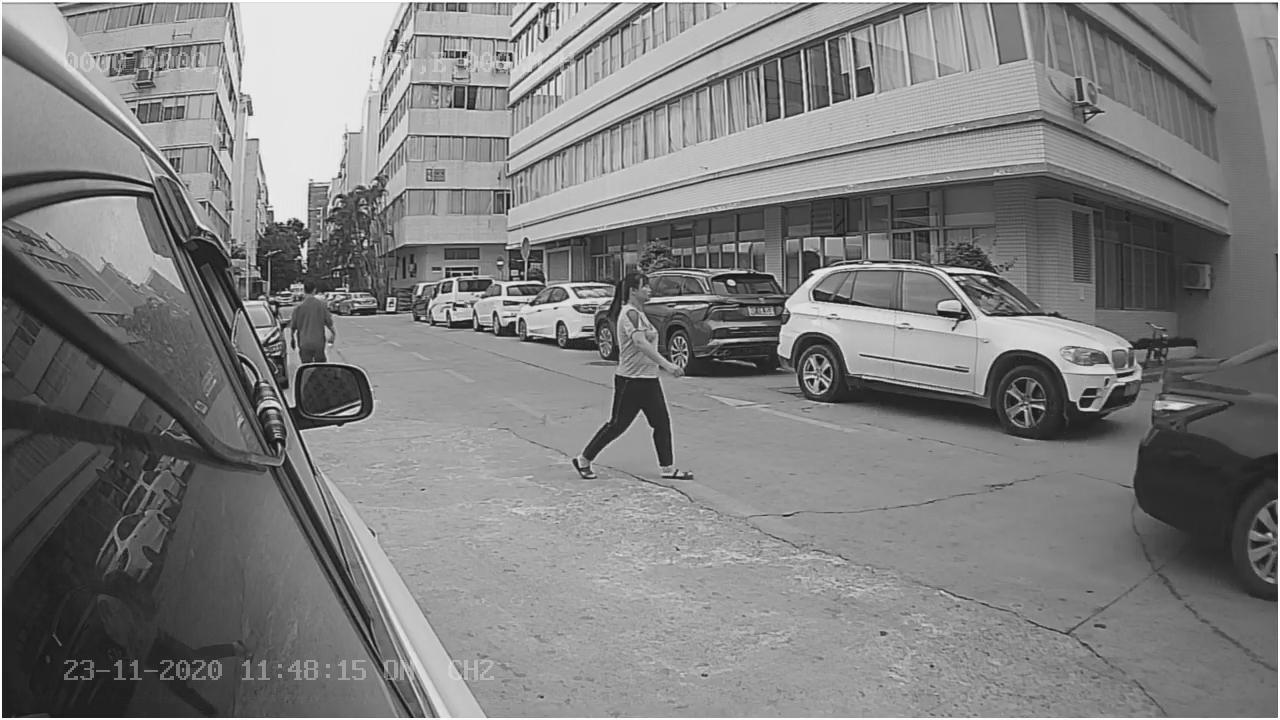person: (570, 263, 697, 483)
